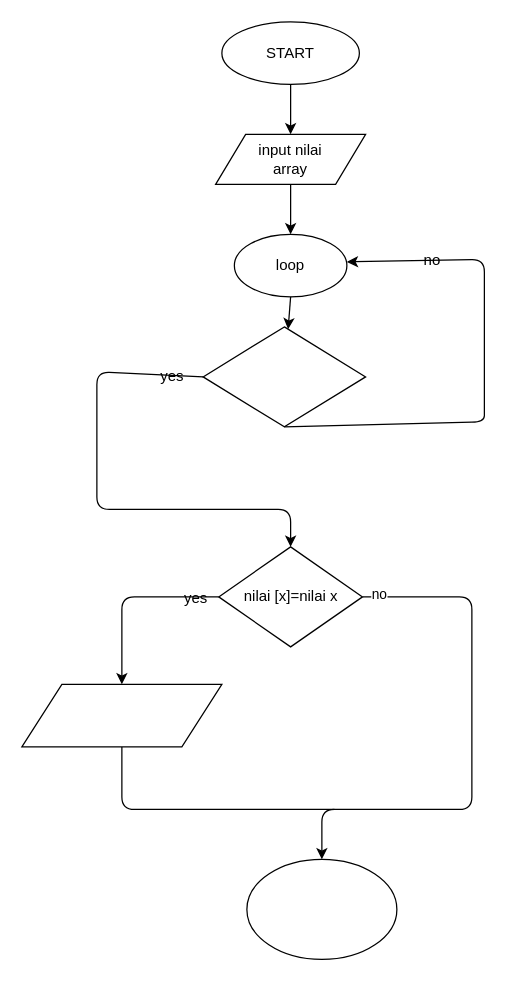
Image size: 516x981. Some labels were removed from this diagram. The centre of each missing label's shape, as x and y in pixels:
angka+nilai x: [121,715]
i=0; i<nilai. length;i++: [284,376]
